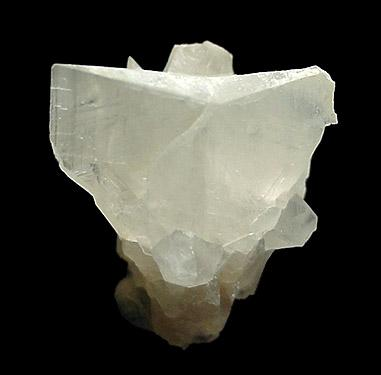calcite: (50, 42, 338, 348)
